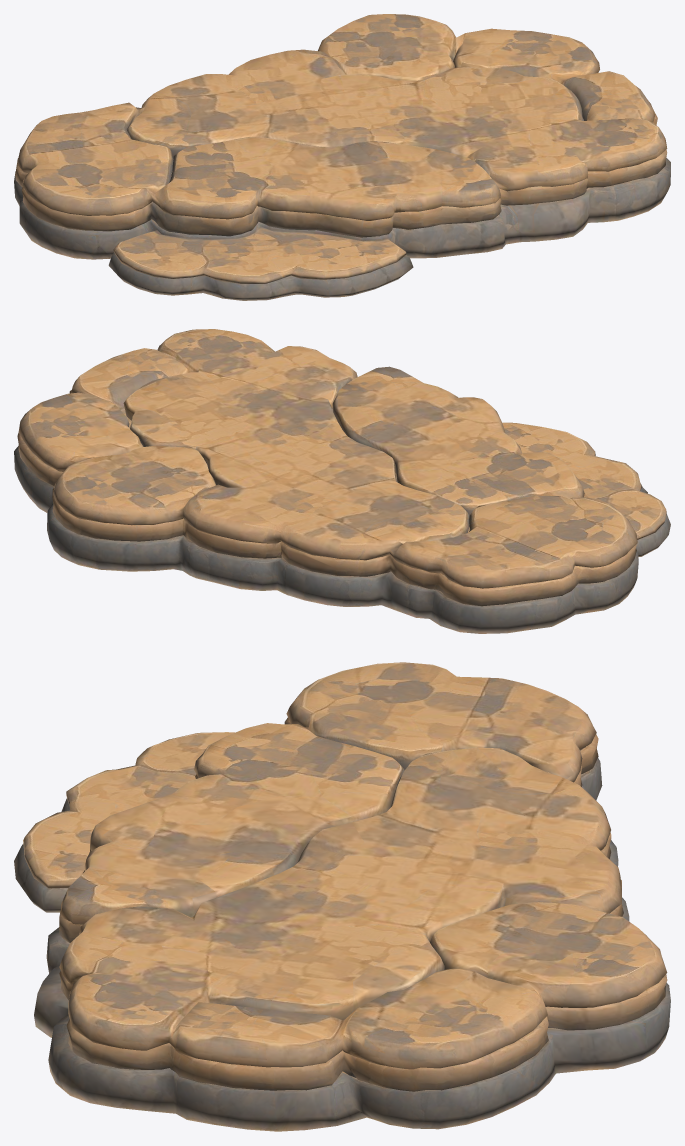
The model's file is Plataforma.glb.
The picture shows the model from 3 angles, top to bottom: view 1: azimuth 30°, elevation 25°; view 2: azimuth 150°, elevation 25°; view 3: azimuth 270°, elevation 25°; orthographic projection. The views are drawn at different scales.
Bounding box in the file's own units: 1 × 0.1025 × 0.709.
1 material, 1 textured.
